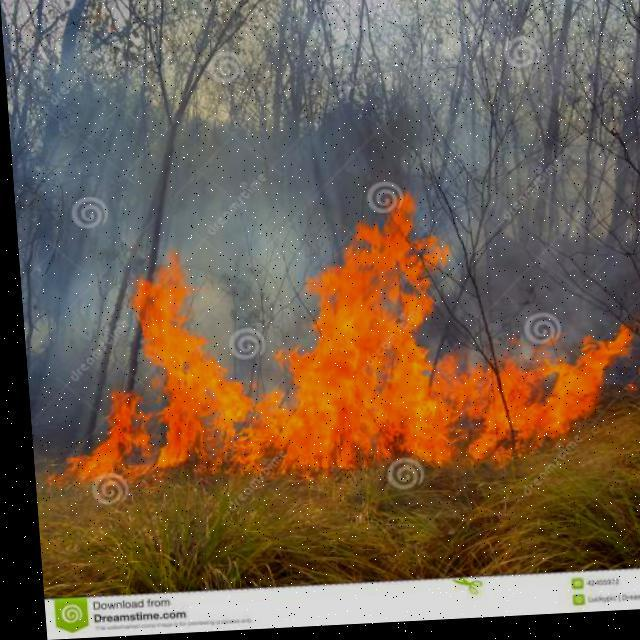Fire: (72, 190, 632, 488)
